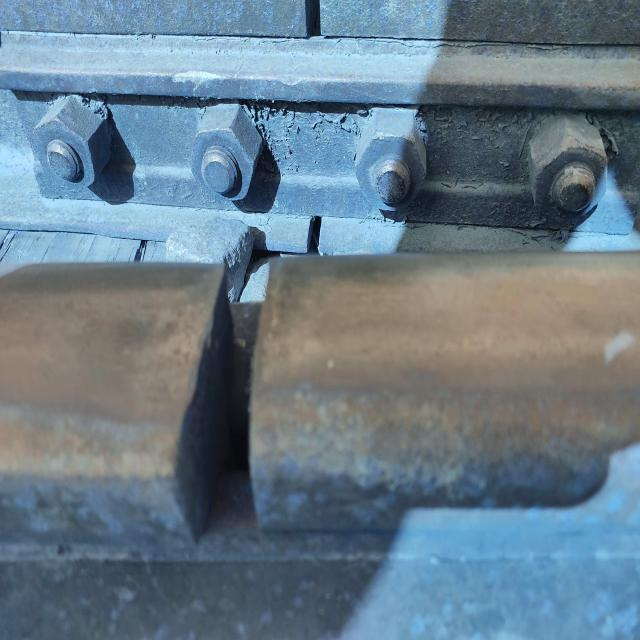Good Joint: (0, 29, 640, 244)
